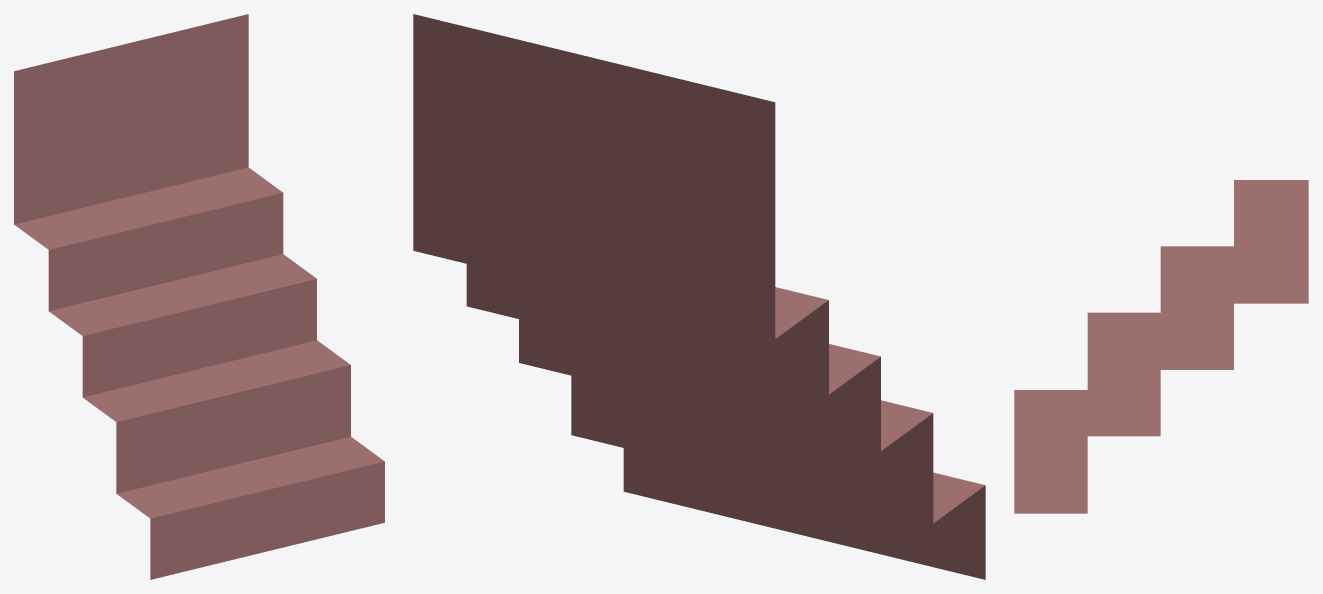
Rendered from stair.fbx.
3 views of the same model, side by side, from view 1: azimuth 30°, elevation 25°; view 2: azimuth 150°, elevation 25°; view 3: azimuth 270°, elevation 25° (orthographic). The views are drawn at different scales.
Visible parts, largest first — view 1: Cube.001; view 2: Cube.001; view 3: Cube.001.
Boxes of the visible parts, x1,y1,x2,y2 form: Cube.001: (14, 14, 384, 579); Cube.001: (413, 14, 985, 579); Cube.001: (1014, 180, 1308, 513).
Size of the model in its own units: 600 by 1000 by 603.
